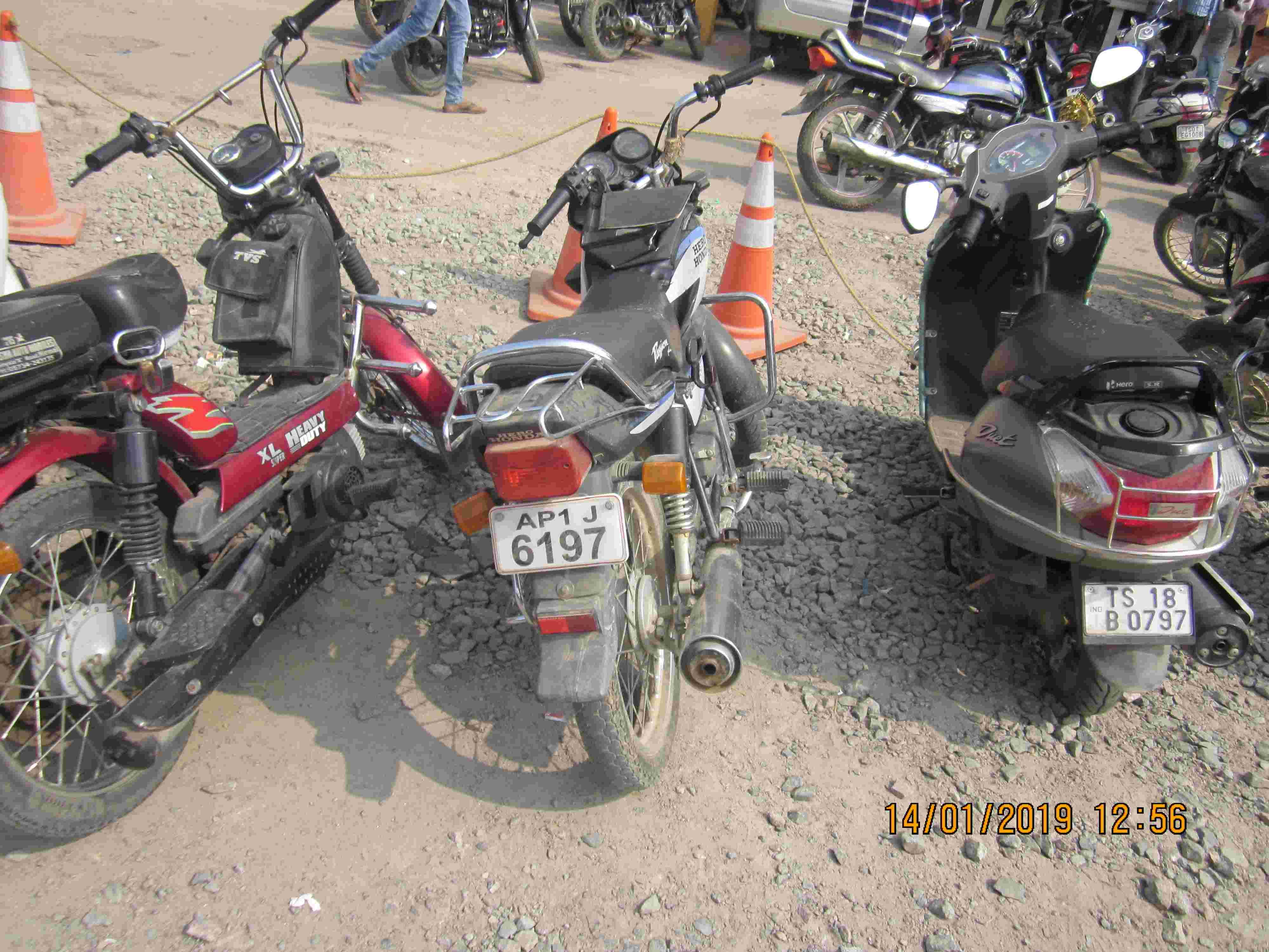plate: (486, 483, 639, 584), (1083, 571, 1211, 653)
